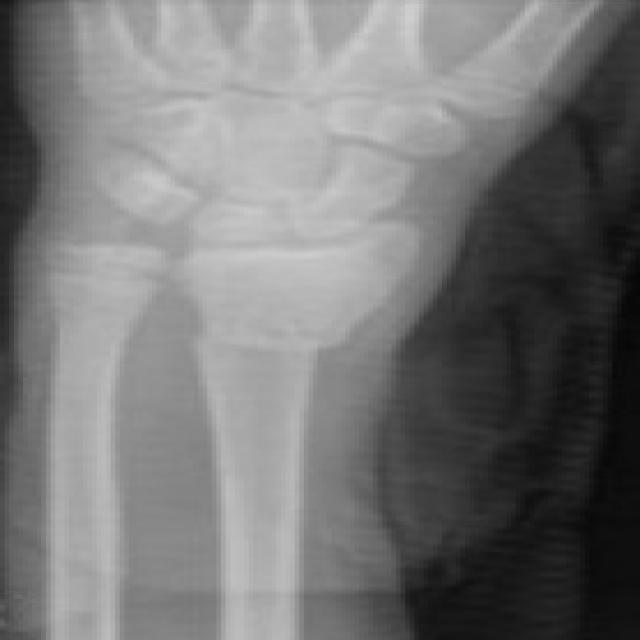Greenstick: (26, 227, 408, 382)
